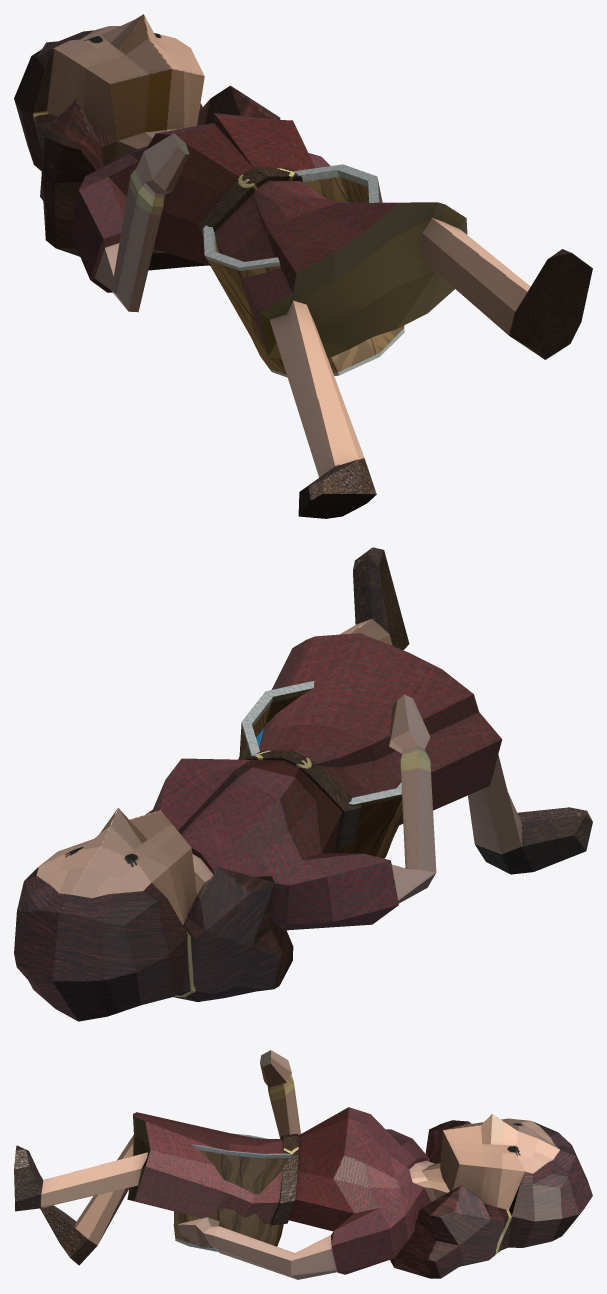
File: Walk_Aldeana_22.obj
3 views of the same model, one above another, from view 1: azimuth 30°, elevation 25°; view 2: azimuth 150°, elevation 25°; view 3: azimuth 270°, elevation 25° (orthographic). The views are drawn at different scales.
Parts seen in each view (by area): view 1: Aldeana.001; view 2: Aldeana.001; view 3: Aldeana.001.
Part boxes in pixels (x1,y1,x2,y2): Aldeana.001: [14, 14, 592, 518]; Aldeana.001: [14, 547, 592, 1021]; Aldeana.001: [14, 1050, 592, 1279].
Bounding box in the file's own units: 0.9471 × 0.9194 × 2.39.
